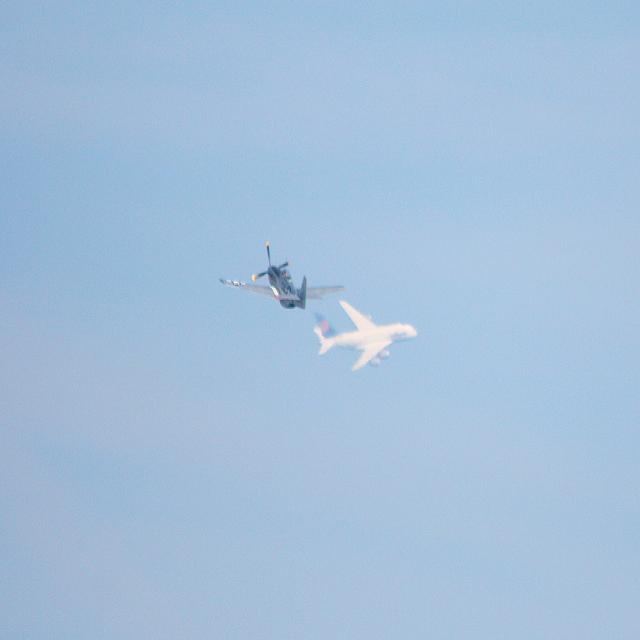airplane: (221, 243, 346, 309), (313, 300, 417, 370)
